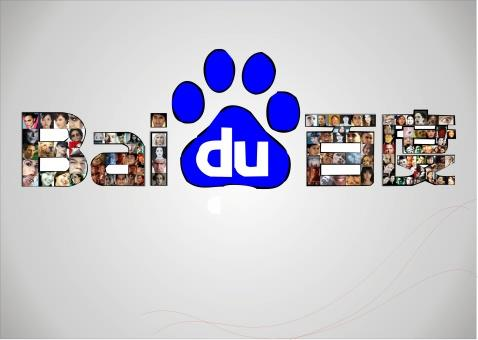baidu: (17, 38, 457, 202)
